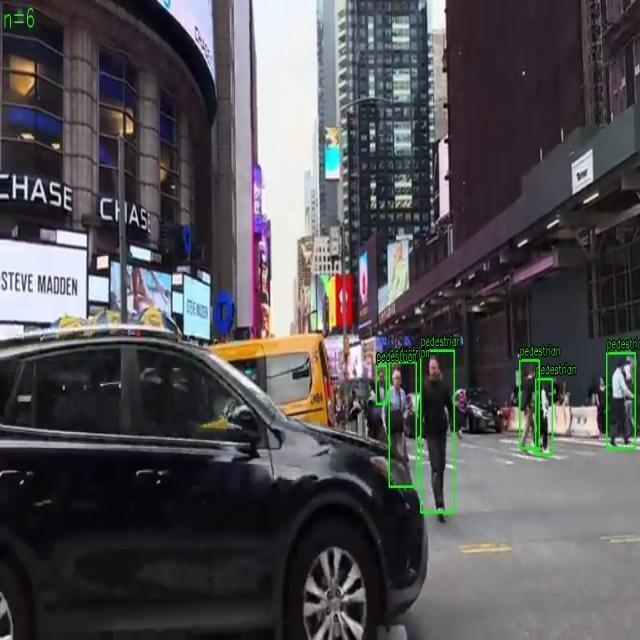person: (420, 350, 454, 513), (389, 362, 417, 487), (606, 353, 636, 449), (520, 360, 540, 449), (536, 378, 552, 456), (376, 366, 386, 404)
